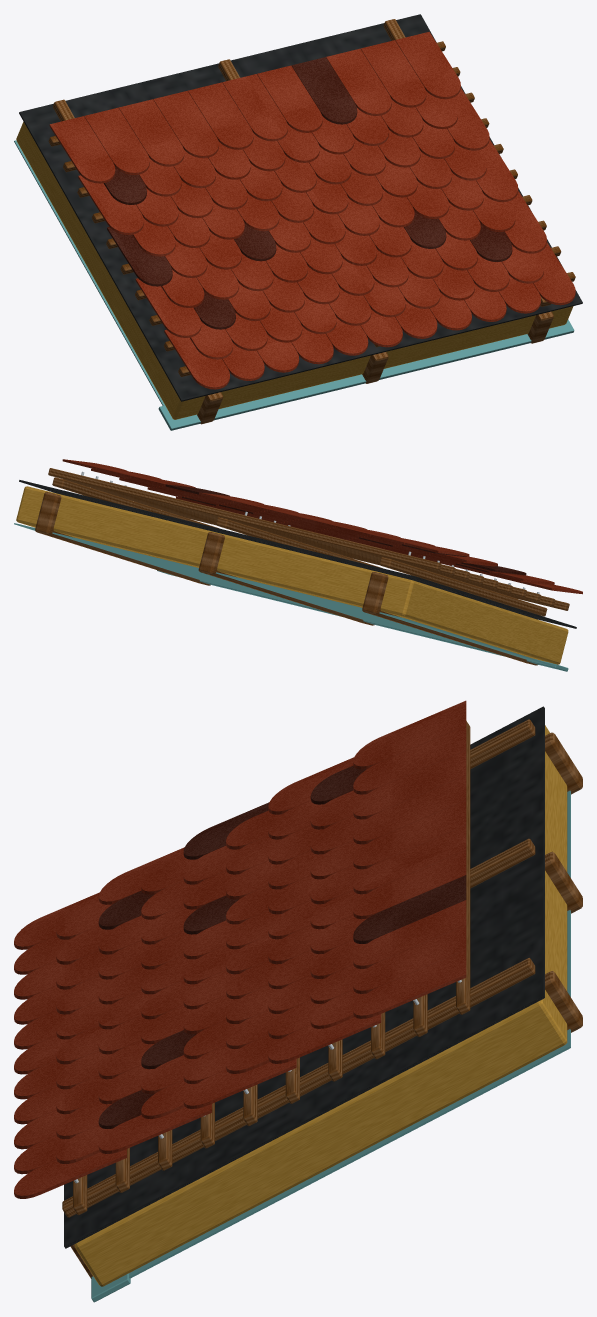
The model's file is modell.glb.
3 views of the same model, one above another, from view 1: azimuth 30°, elevation 25°; view 2: azimuth 150°, elevation 25°; view 3: azimuth 270°, elevation 25° (orthographic). The views are drawn at different scales.
Visible parts, largest first — view 1: g01-deckziegel_deckung, g01-zusatzebene_zusatzebene, g01-daemmung_daemmung, g01-deckziegel_deckung.001, g01-innenanschluss_luftdichtheit, g01-lattung_lattung, g01-sparren_tragwerk, g01-luftdichtheit_luftdichtheit; view 2: g01-daemmung_daemmung, g01-lattung_lattung, g01-deckziegel_deckung, g01-sparren_tragwerk, g01-luftdichtheit_luftdichtheit, g01-zusatzebene_zusatzebene, g01-innenanschluss_luftdichtheit, g01-deckziegel_deckung.001; view 3: g01-deckziegel_deckung, g01-zusatzebene_zusatzebene, g01-daemmung_daemmung, g01-lattung_lattung, g01-deckziegel_deckung.001, g01-luftdichtheit_luftdichtheit, g01-sparren_tragwerk.
Boxes of the visible parts, box(x1,y1,x2,y2) form: g01-deckziegel_deckung: box(49, 31, 575, 389); g01-zusatzebene_zusatzebene: box(19, 14, 582, 401); g01-daemmung_daemmung: box(16, 122, 573, 419); g01-deckziegel_deckung.001: box(103, 57, 512, 329); g01-innenanschluss_luftdichtheit: box(158, 319, 574, 430); g01-lattung_lattung: box(48, 19, 575, 376); g01-sparren_tragwerk: box(197, 311, 553, 424); g01-luftdichtheit_luftdichtheit: box(14, 140, 164, 405); g01-daemmung_daemmung: box(16, 486, 568, 664); g01-lattung_lattung: box(48, 468, 569, 616); g01-deckziegel_deckung: box(62, 459, 582, 594); g01-sparren_tragwerk: box(35, 492, 537, 665); g01-luftdichtheit_luftdichtheit: box(14, 523, 551, 665); g01-zusatzebene_zusatzebene: box(19, 480, 576, 628); g01-innenanschluss_luftdichtheit: box(157, 570, 568, 671); g01-deckziegel_deckung.001: box(165, 484, 526, 575); g01-deckziegel_deckung: box(14, 700, 466, 1198); g01-zusatzebene_zusatzebene: box(64, 706, 544, 1248); g01-daemmung_daemmung: box(74, 725, 567, 1286); g01-lattung_lattung: box(62, 719, 535, 1217); g01-deckziegel_deckung.001: box(98, 765, 466, 1128); g01-luftdichtheit_luftdichtheit: box(129, 790, 570, 1278); g01-sparren_tragwerk: box(70, 732, 582, 1278).
Bounding box in the file's own units: 2.1 × 1.07 × 1.74.
7 materials, 5 textured.
